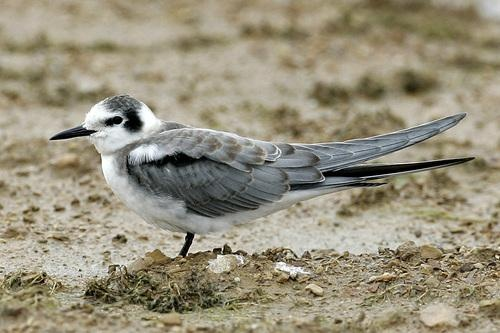bird: (46, 91, 475, 241)
